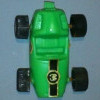verde: (16, 2, 86, 96)
